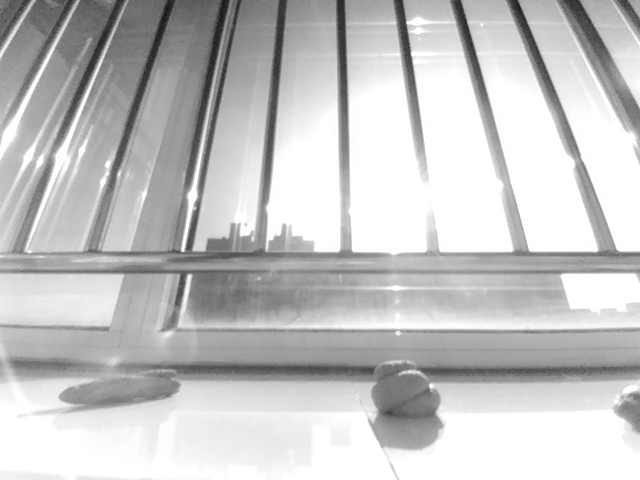pet feces: (58, 369, 182, 407), (369, 359, 442, 417), (610, 383, 640, 432)
